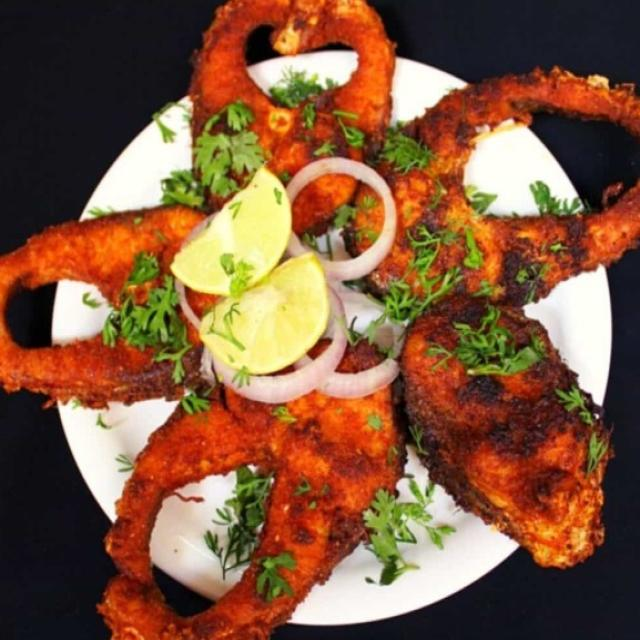CURD: (468, 126, 577, 218)
FISH FRY: (10, 0, 640, 640)
